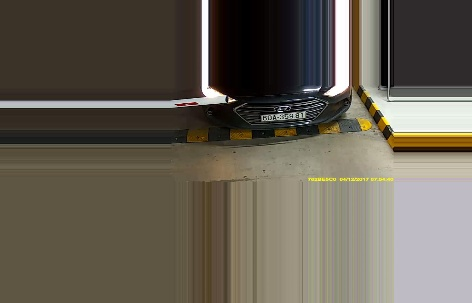plate: (259, 112, 308, 123)
